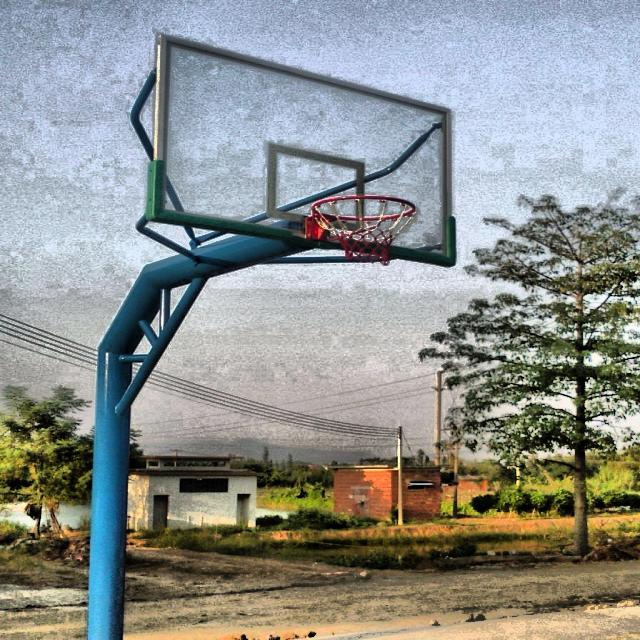rim: (312, 196, 417, 266)
